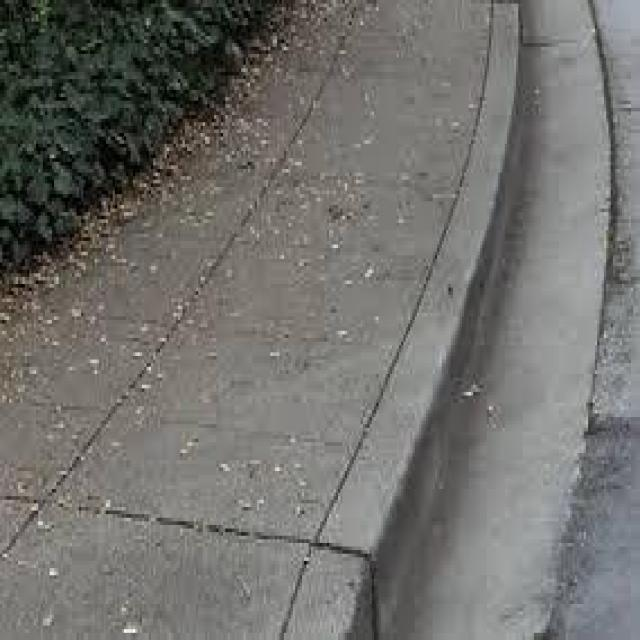curb: (275, 1, 529, 640)
